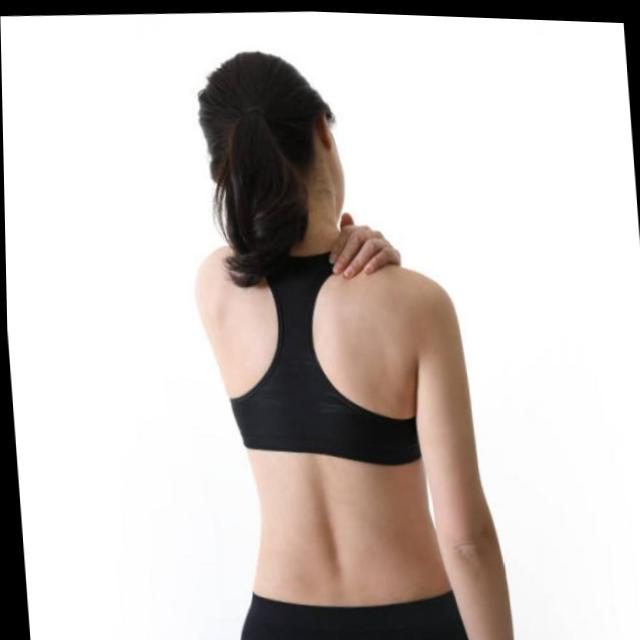no helmet: (175, 39, 365, 256)
